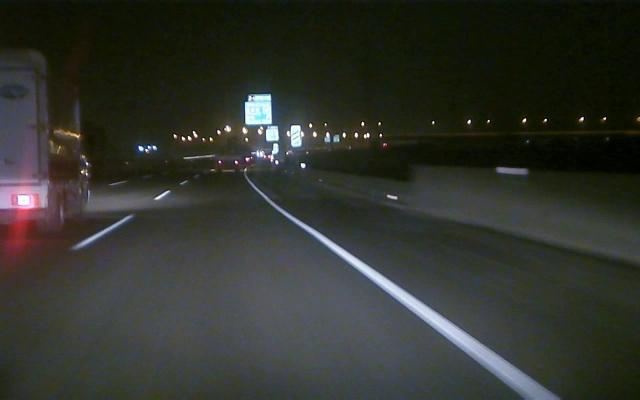lane: (254, 188, 562, 399), (67, 191, 170, 251)
